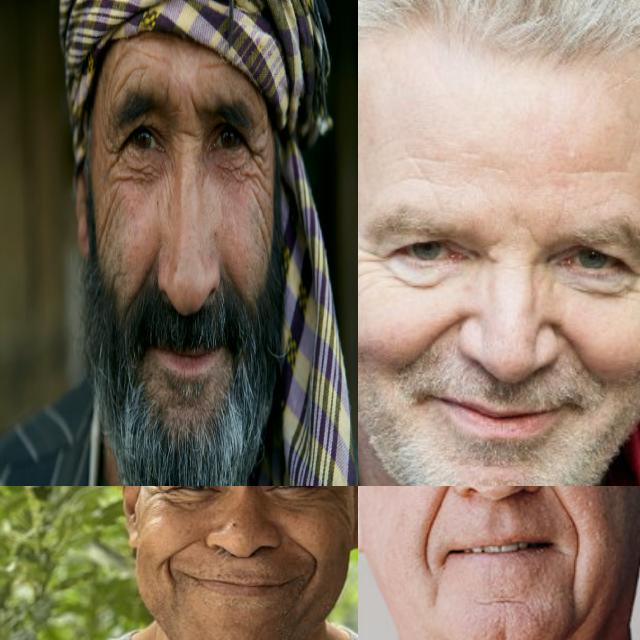chin: (478, 590, 528, 610)
crows_feet: (358, 243, 382, 289), (105, 135, 122, 182), (249, 142, 267, 182), (629, 260, 640, 308), (142, 486, 168, 505), (314, 486, 336, 502)
forehead: (404, 146, 438, 197), (113, 49, 142, 87)
frown_line: (518, 222, 546, 252), (187, 88, 199, 125)
gummy_smile: (551, 322, 599, 372), (416, 314, 464, 364), (421, 486, 452, 546), (540, 486, 578, 523), (292, 534, 322, 580), (162, 540, 192, 580), (136, 248, 158, 292)
masseter: (101, 194, 117, 252), (256, 199, 271, 256)
sad_smile: (560, 535, 590, 581)
